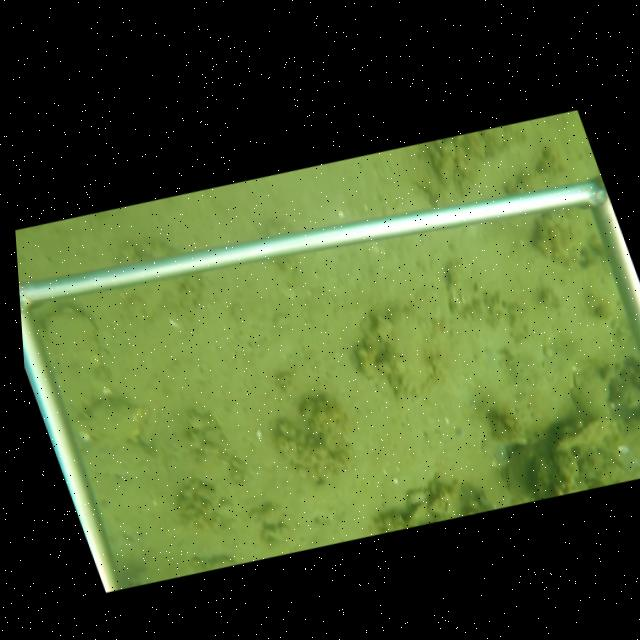Oyster-Indeterminate: (41, 305, 102, 423), (374, 309, 436, 397), (534, 206, 596, 269), (88, 397, 144, 445)
